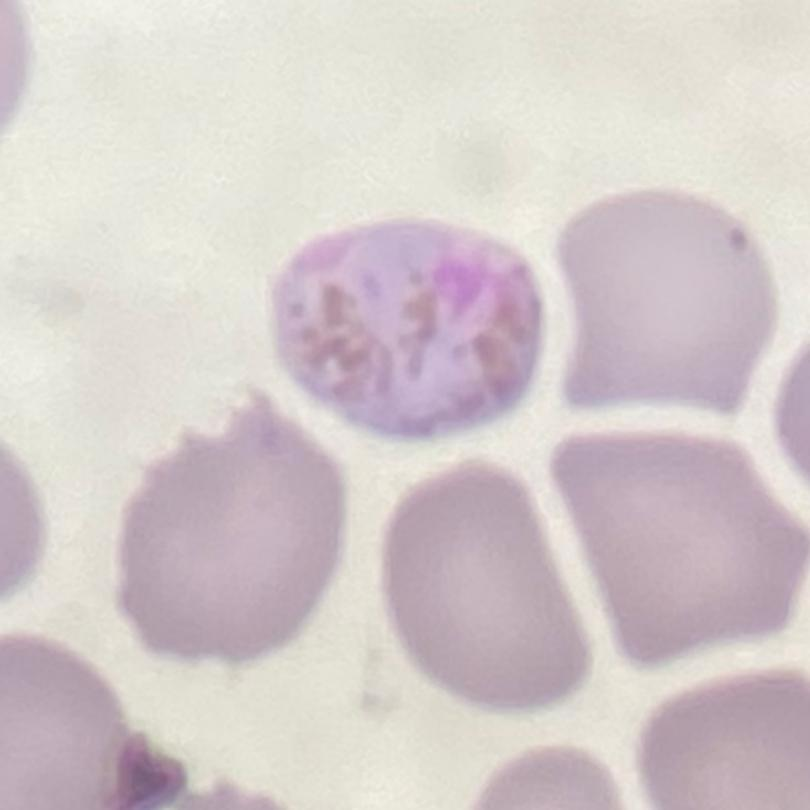Infected: (264, 215, 541, 436)
Uninfected: (112, 393, 343, 664), (548, 427, 810, 655), (378, 463, 591, 718), (552, 187, 775, 414)
